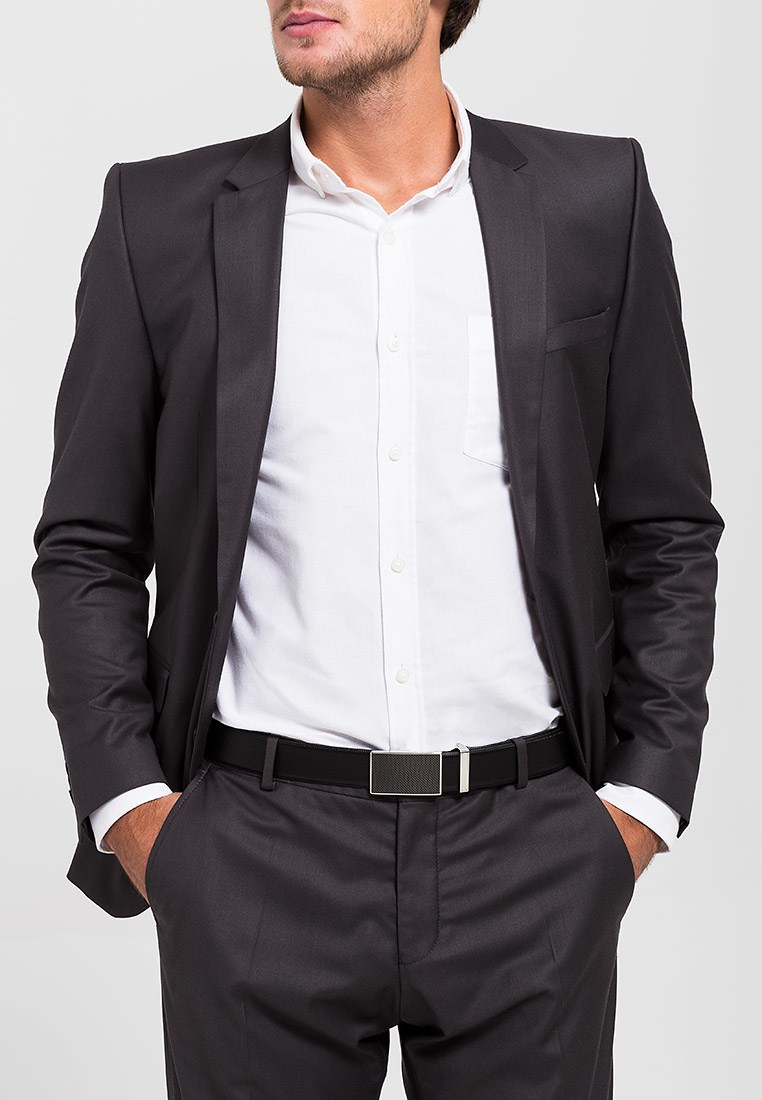F_M_suit jacket: (43, 111, 714, 860)
F_belt: (206, 710, 596, 813)
F_dress pants: (126, 816, 660, 1092)
